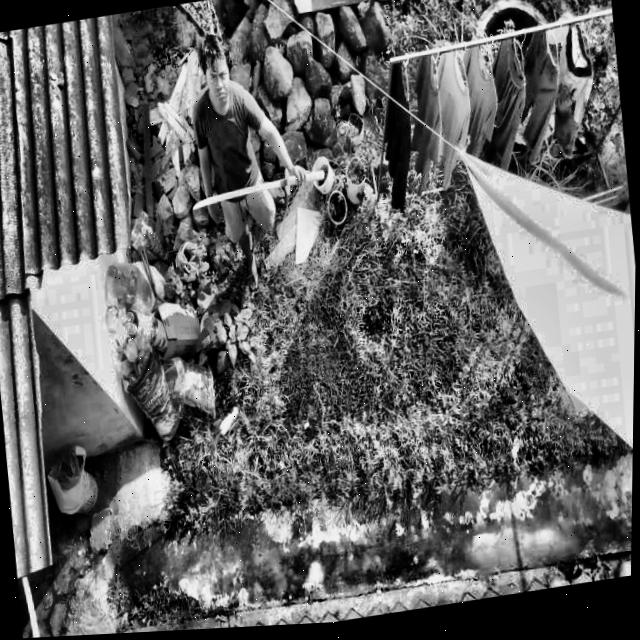pisau: (180, 161, 331, 221)
